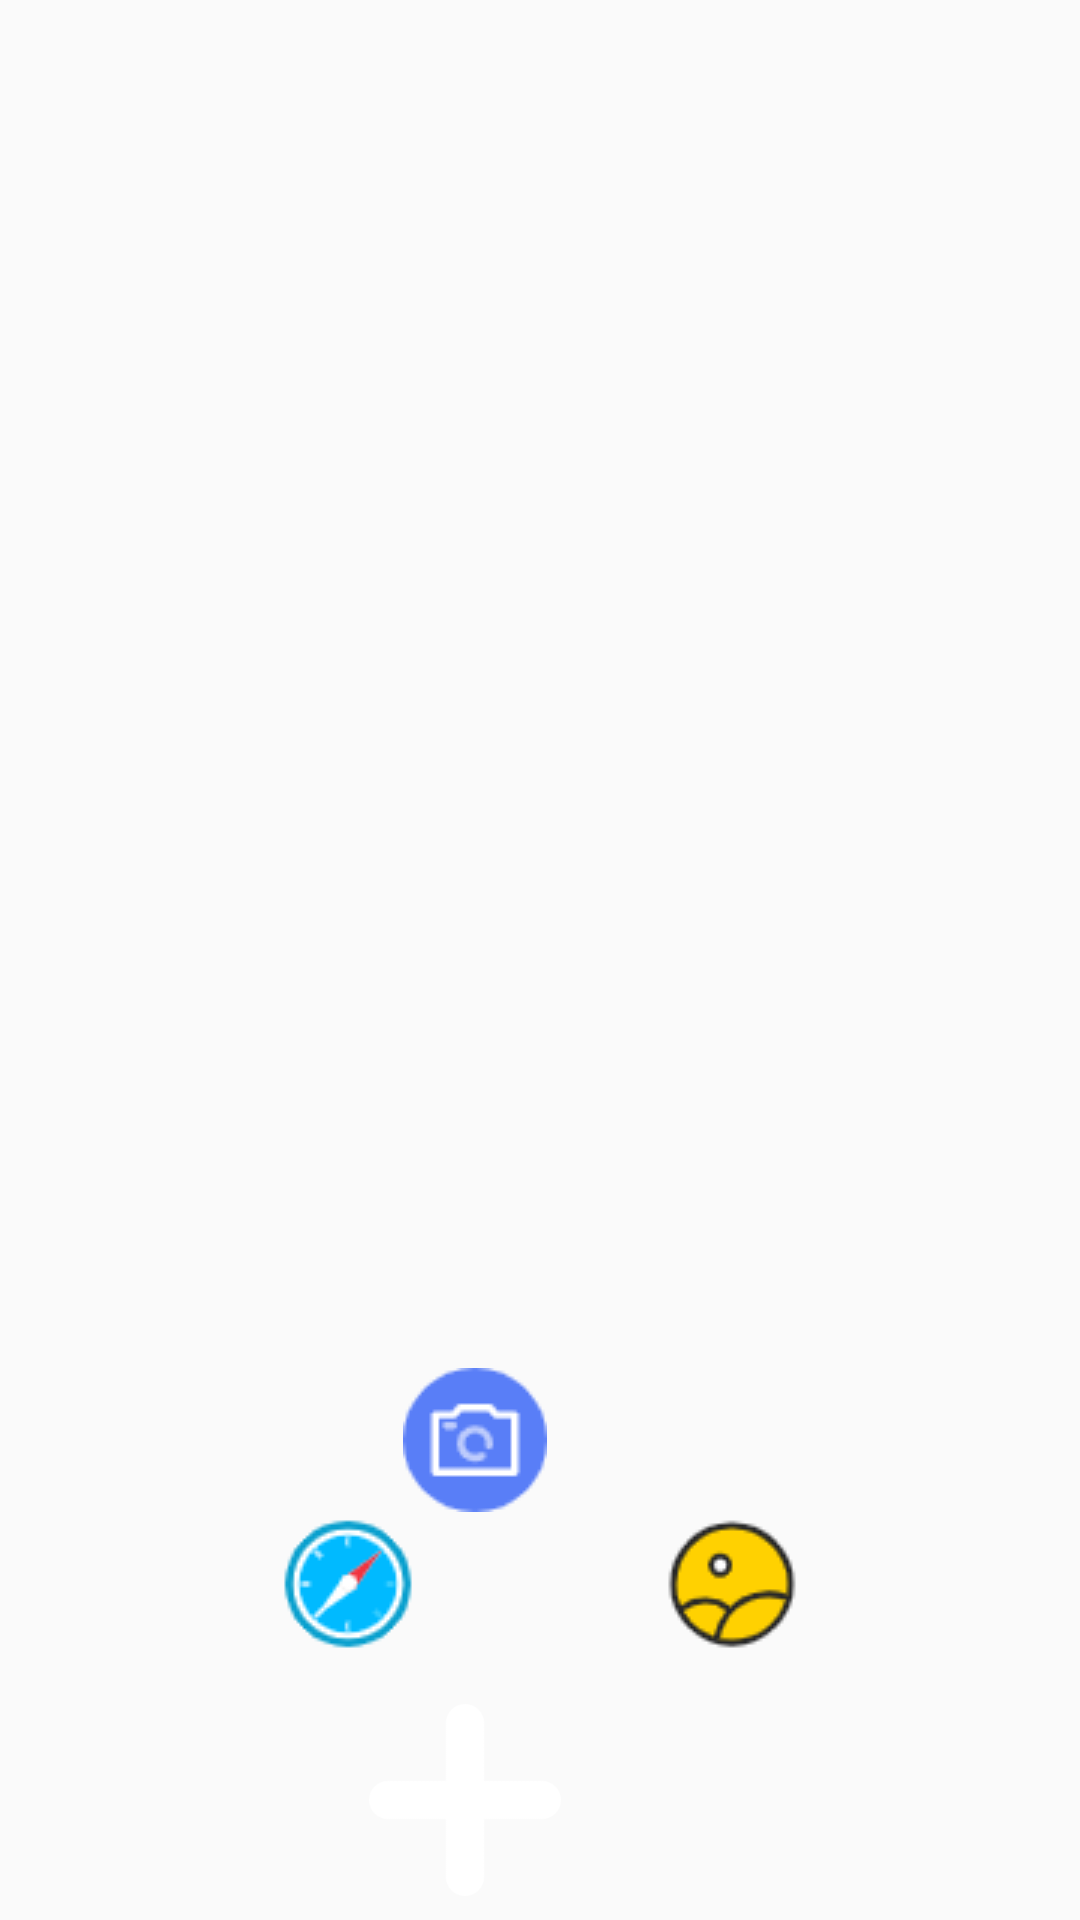

Icons on this 1080*1920 Android screen, each with the point to tap as (x=x, y=y):
album: (x=732, y=1584)
photo: (x=475, y=1440)
